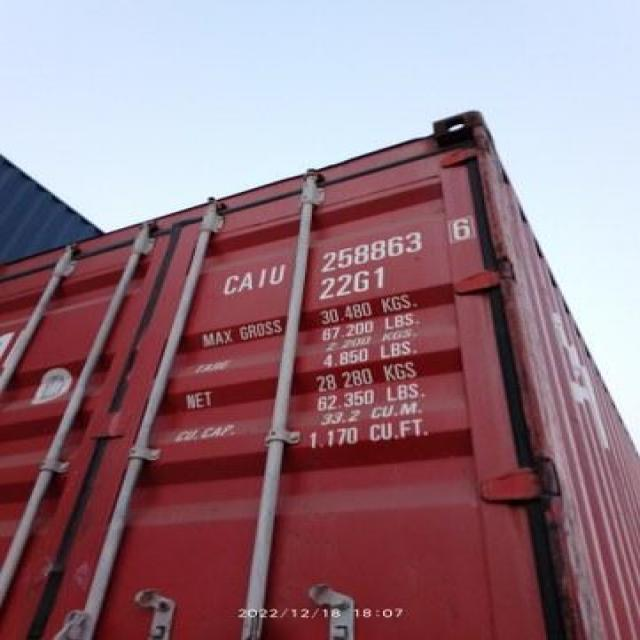ISO: (308, 262, 398, 310)
container_number: (210, 206, 478, 301)
